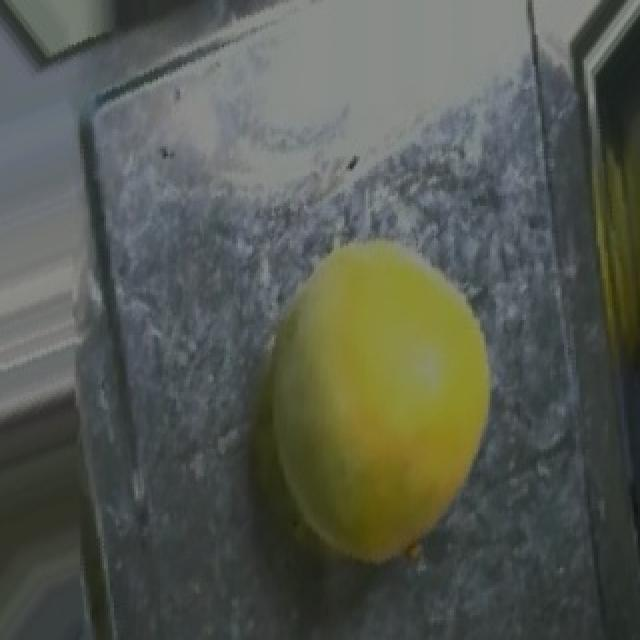fruit: (234, 211, 532, 590)
